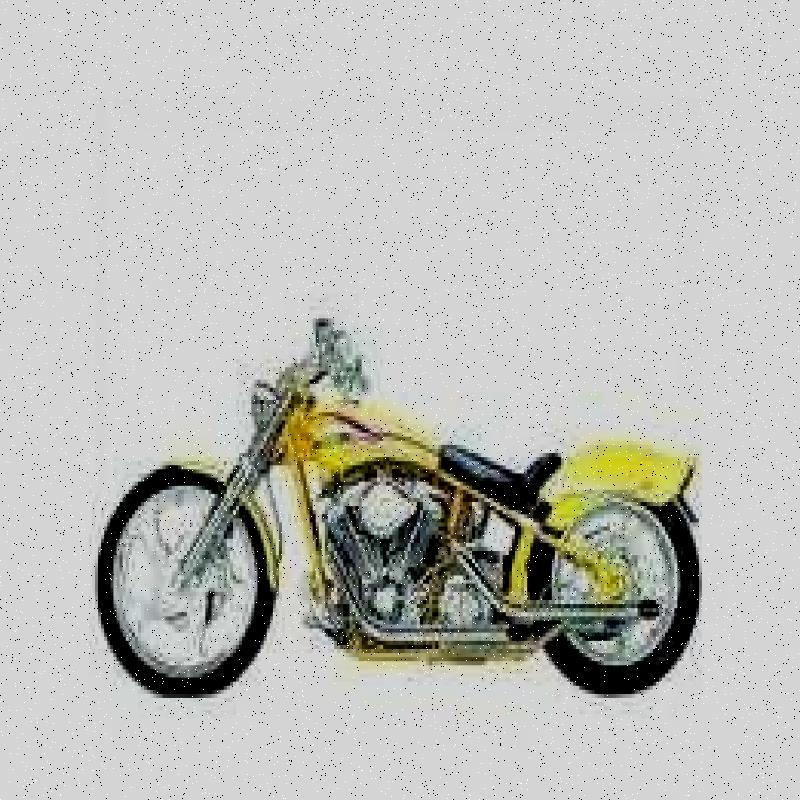bike: (102, 291, 730, 725)
